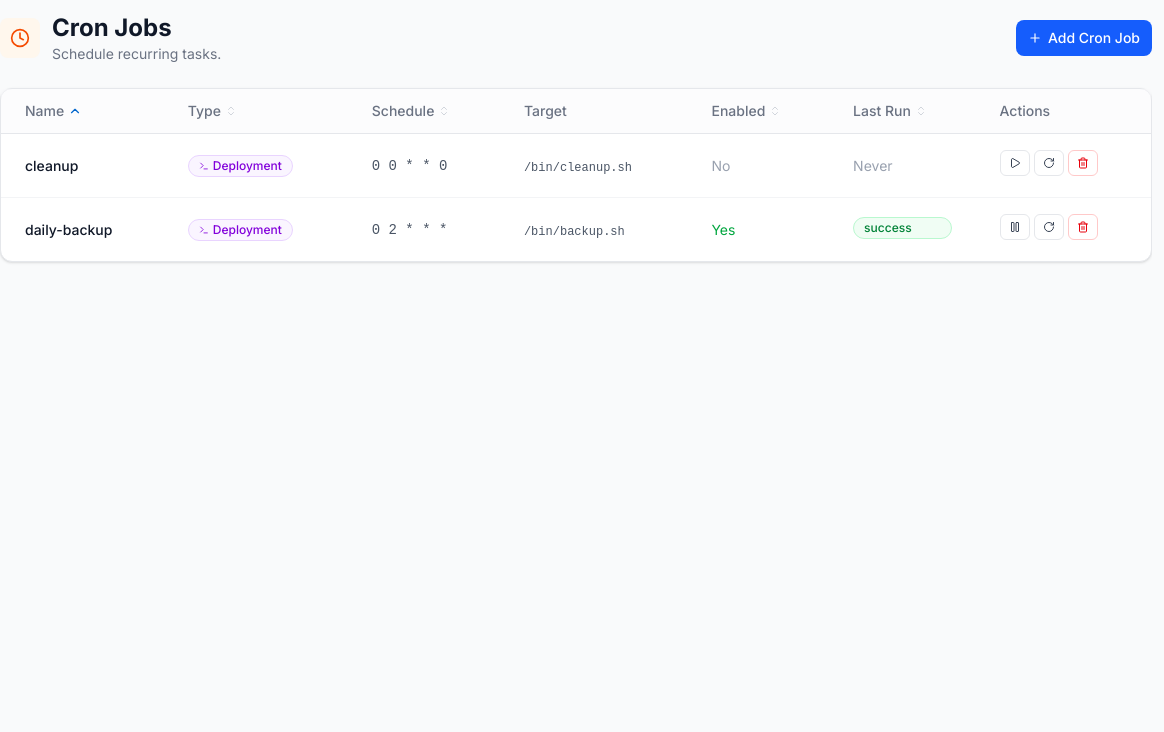
Test: Client CronJobs page › shows create form on click
Click the button with test id "add-cron-job-button": (1084, 38) [1016,20,1152,56]
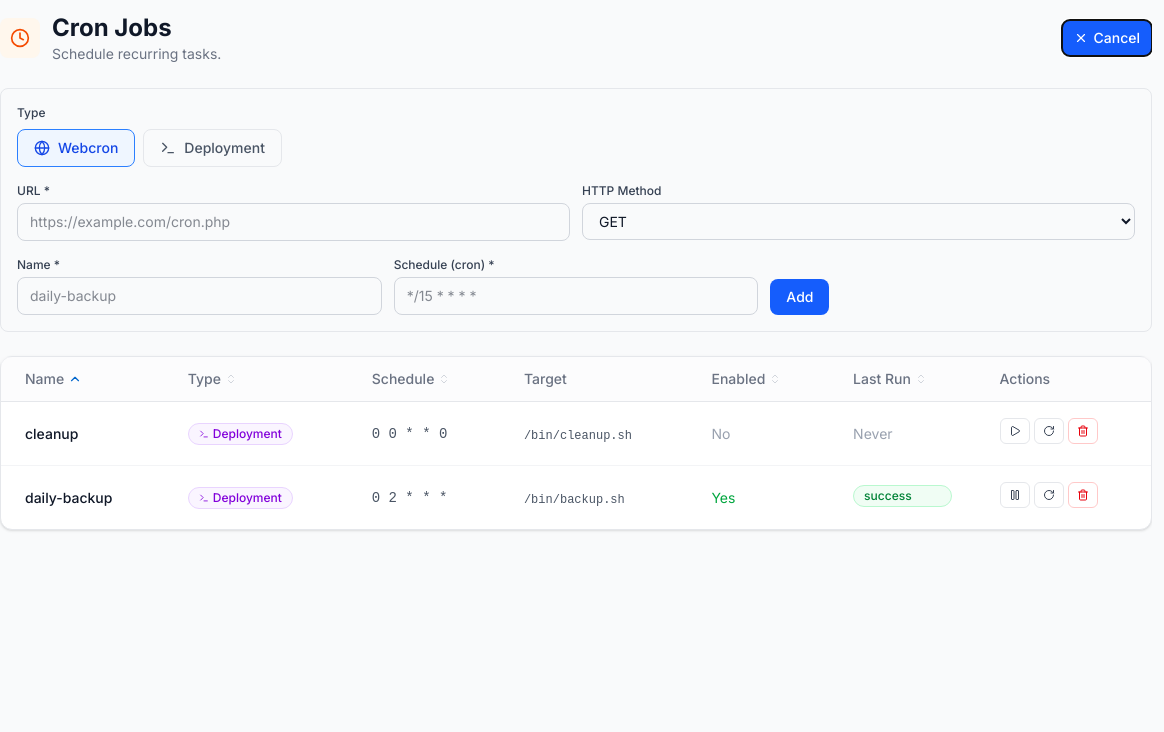
Check: the form with test id "cron-job-form" is shown, box [0,88,1152,332]
Check: the field with test id "cron-name-input" is shown, box [17,277,382,315]
Check: the field with test id "cron-schedule-input" is shown, box [394,277,758,315]
